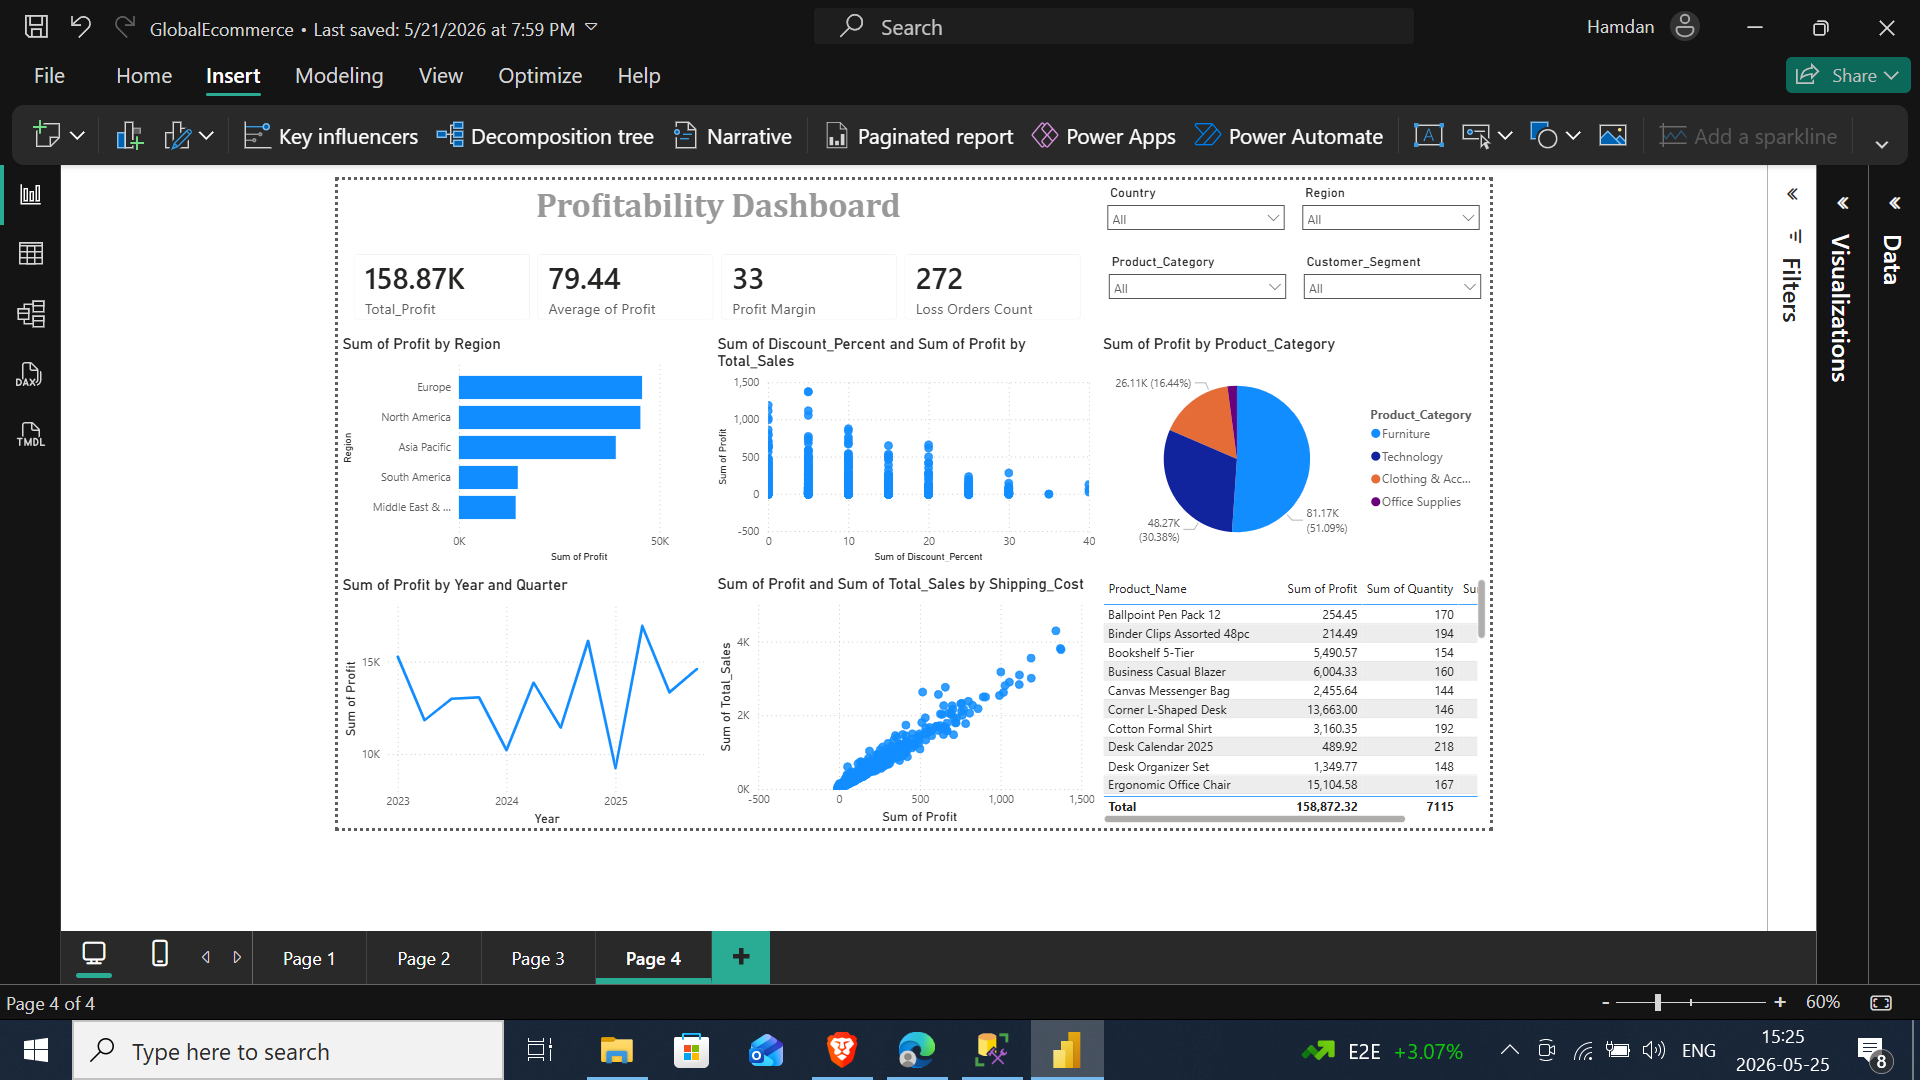

The dashboard page shown, as its layout file describes it:
{"tool":"powerbi","page":{"name":"Profitability Dashboard","canvas":[1280,720],"ordinal":3},"visuals":[{"type":"cardVisual","fields":{"Data":["Sum(Global_sales.Profit)","Avg(Global_sales.Profit)","Global_sales.Profit Margin","Global_sales.Loss Orders Count"]},"box":[0,65.1,845.8,107.4],"z":0},{"type":"barChart","title":"Profit by Region","fields":{"Category":["Global_sales.Region"],"Y":["Sum(Global_sales.Profit)"]},"box":[0,172.4,416.4,257],"z":1},{"type":"lineChart","title":"Profit Trend Over Time","fields":{"Y":["Sum(Global_sales.Profit)"],"Category":["Global_sales.Order_Date.Variation.Date Hierarchy.Year","Global_sales.Order_Date.Variation.Date Hierarchy.Quarter"]},"box":[0,439.2,416.4,281.4],"z":2},{"type":"scatterChart","title":"Discount Impact on Profit","fields":{"Category":["Global_sales.Total_Sales"],"Y":["Sum(Global_sales.Profit)"],"X":["Sum(Global_sales.Discount_Percent)"]},"box":[416.4,172.4,429.4,257],"z":3},{"type":"scatterChart","title":"Shipping Cost vs Profit","fields":{"Category":["Global_sales.Shipping_Cost"],"X":["Sum(Global_sales.Profit)"],"Y":["Sum(Global_sales.Total_Sales)"]},"box":[416,439,429,281],"z":4},{"type":"pieChart","title":"Profit by Product Category","fields":{"Category":["Global_sales.Product_Category"],"Y":["Sum(Global_sales.Profit)"]},"box":[845,171.7,435,256.7],"z":5},{"type":"tableEx","fields":{"Values":["Global_sales.Product_Name","Sum(Global_sales.Profit)","Sum(Global_sales.Quantity)","Sum(Global_sales.Total_Sales)"]},"box":[845,439,435,281],"z":6},{"type":"slicer","fields":{"Values":["Global_sales.Country"]},"box":[845,0,216.7,90],"z":7},{"type":"slicer","fields":{"Values":["Global_sales.Region"]},"box":[1061.7,0,216.7,76.7],"z":8},{"type":"slicer","fields":{"Values":["Global_sales.Product_Category"]},"box":[846.7,76.7,216.7,73.3],"z":9},{"type":"slicer","fields":{"Values":["Global_sales.Customer_Segment"]},"box":[1063.3,76.7,216.7,73.3],"z":10},{"type":"textbox","box":[0,0,845,65],"z":11}]}

Visuals, with their boxes on the page's 1280x720 design canvas (x1, y1, x2, y2). These are canvas units, not pixel positions in the 1920x1080 screenshot, which may show the page scaled, cropped or inside an application window:
cardVisual - Sum(Global_sales.Profit) x Avg(Global_sales.Profit): box(0, 65, 846, 172)
"Profit by Region" barChart: box(0, 172, 416, 429)
"Profit Trend Over Time" lineChart: box(0, 439, 416, 721)
"Discount Impact on Profit" scatterChart: box(416, 172, 846, 429)
"Shipping Cost vs Profit" scatterChart: box(416, 439, 845, 720)
"Profit by Product Category" pieChart: box(845, 172, 1280, 428)
tableEx - Global_sales.Product_Name x Sum(Global_sales.Profit): box(845, 439, 1280, 720)
slicer - Global_sales.Country: box(845, 0, 1062, 90)
slicer - Global_sales.Region: box(1062, 0, 1278, 77)
slicer - Global_sales.Product_Category: box(847, 77, 1063, 150)
slicer - Global_sales.Customer_Segment: box(1063, 77, 1280, 150)
textbox: box(0, 0, 845, 65)
